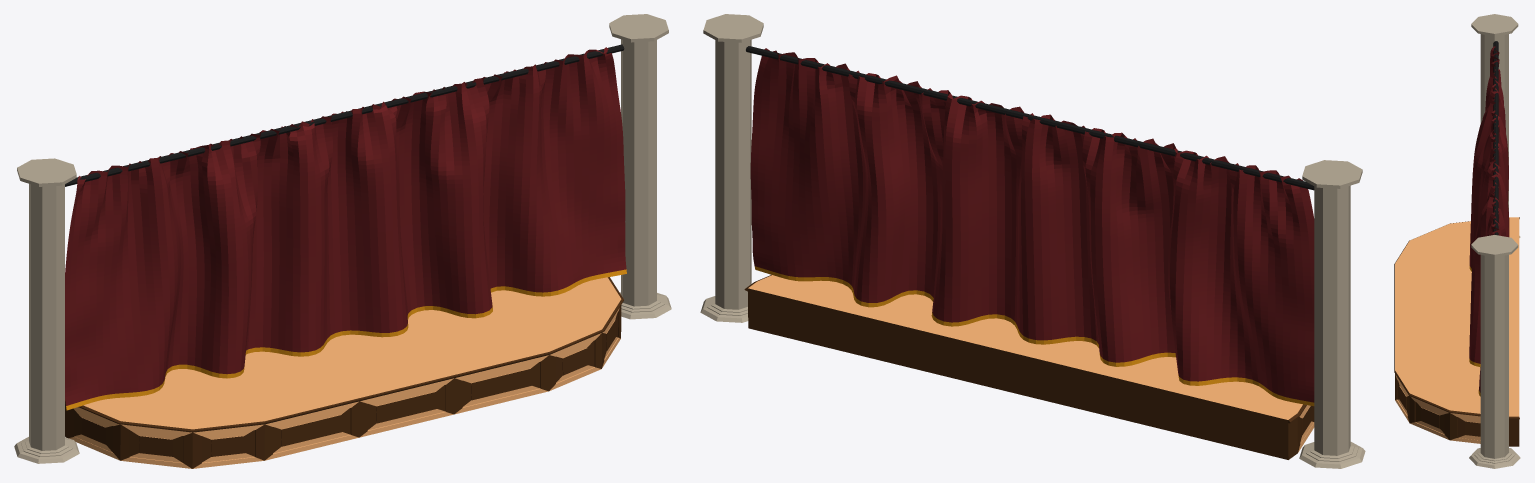
The model's file is Stage.glb.
The picture shows the model from 3 angles, left to right: view 1: azimuth 30°, elevation 25°; view 2: azimuth 150°, elevation 25°; view 3: azimuth 270°, elevation 25°; orthographic projection. The views are drawn at different scales.
Parts seen in each view (by area): view 1: Grid, Cube.001, Cylinder, Cylinder.001; view 2: Grid, Cube.001, Cylinder, Cylinder.001; view 3: Cube.001, Cylinder, Grid, Cylinder.001.
Boxes of the visible parts, <box> form: Grid: <box>65,47,626,410</box>; Cube.001: <box>65,277,623,468</box>; Cylinder: <box>14,14,671,463</box>; Cylinder.001: <box>65,44,624,186</box>; Grid: <box>750,48,1314,406</box>; Cube.001: <box>744,275,1314,459</box>; Cylinder: <box>700,14,1365,468</box>; Cylinder.001: <box>746,46,1314,190</box>; Cube.001: <box>1394,217,1519,446</box>; Cylinder: <box>1469,14,1520,468</box>; Grid: <box>1469,46,1509,396</box>; Cylinder.001: <box>1493,41,1498,235</box>.
Bounding box in the file's own units: 92.35 × 37.83 × 20.34.
